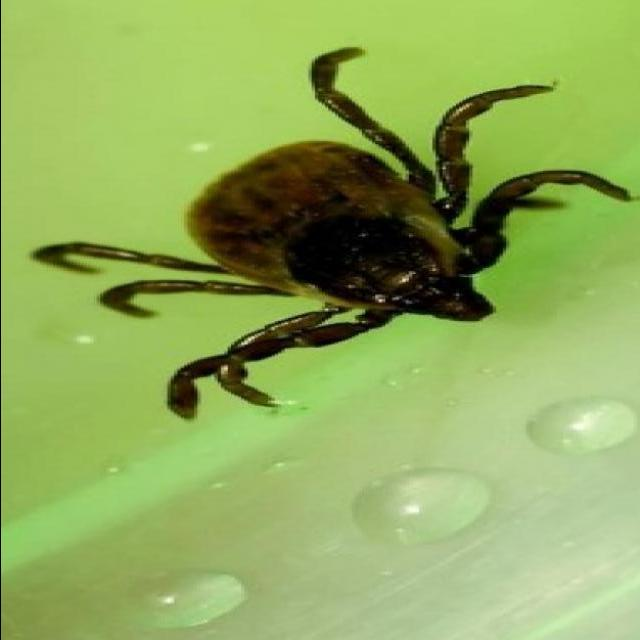Rhipicephalus Sanguineus-F: (32, 49, 633, 421)
